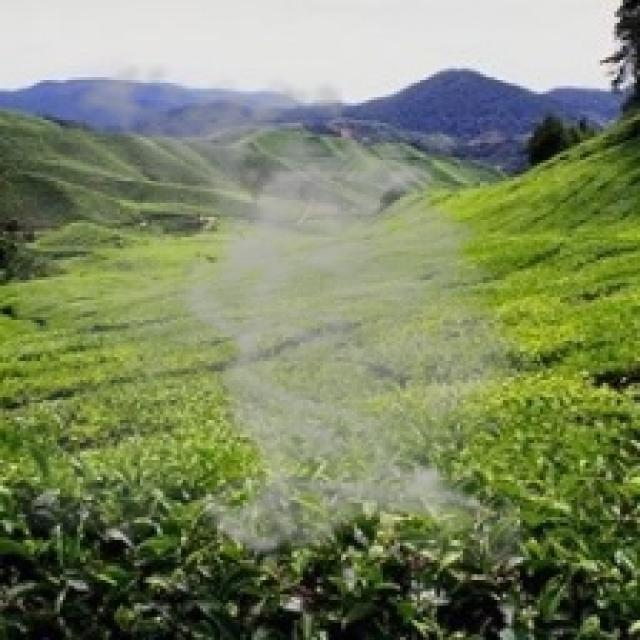Smoke: (17, 48, 552, 563)
